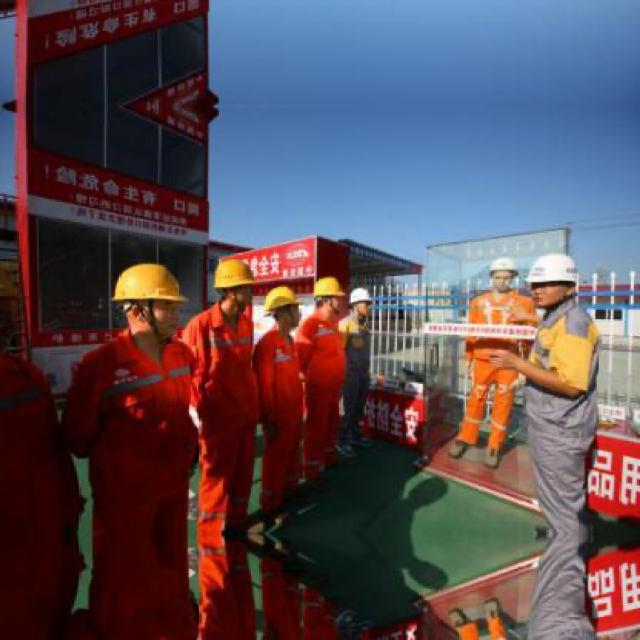helmet: (112, 256, 192, 347), (524, 252, 582, 308), (212, 255, 260, 316), (264, 284, 302, 332), (312, 275, 343, 319), (485, 253, 520, 290), (346, 282, 376, 319)
